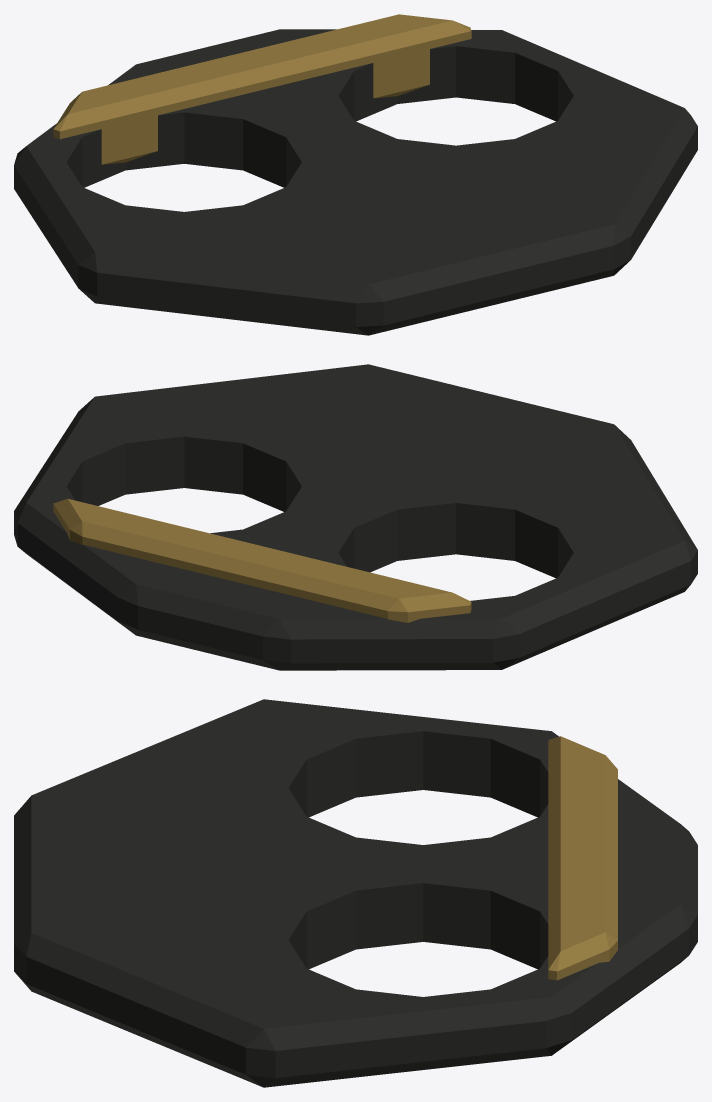
Rendered from study_fabricated_mask.obj.
The picture shows the model from 3 angles, top to bottom: view 1: azimuth 30°, elevation 25°; view 2: azimuth 150°, elevation 25°; view 3: azimuth 270°, elevation 25°; orthographic projection. The views are drawn at different scales.
Parts seen in each view (by area): view 1: B_MaskShell.001_wrought_iron, B_BrowPlate.001_ritual_gold; view 2: B_MaskShell.001_wrought_iron, B_BrowPlate.001_ritual_gold; view 3: B_MaskShell.001_wrought_iron, B_BrowPlate.001_ritual_gold.
Part boxes in pixels (box(x1,y1,x2,y2)): B_MaskShell.001_wrought_iron: box(14, 29, 697, 335); B_BrowPlate.001_ritual_gold: box(53, 14, 471, 164); B_MaskShell.001_wrought_iron: box(14, 364, 697, 670); B_BrowPlate.001_ritual_gold: box(53, 498, 471, 622); B_MaskShell.001_wrought_iron: box(14, 699, 697, 1087); B_BrowPlate.001_ritual_gold: box(548, 736, 617, 980).
Size of the model in its own units: 1.62 by 0.175 by 1.37.
